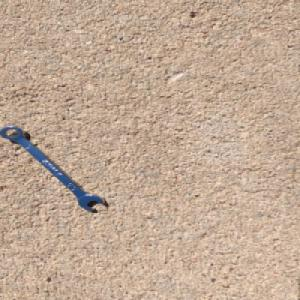Wrench: (0, 125, 107, 211)
